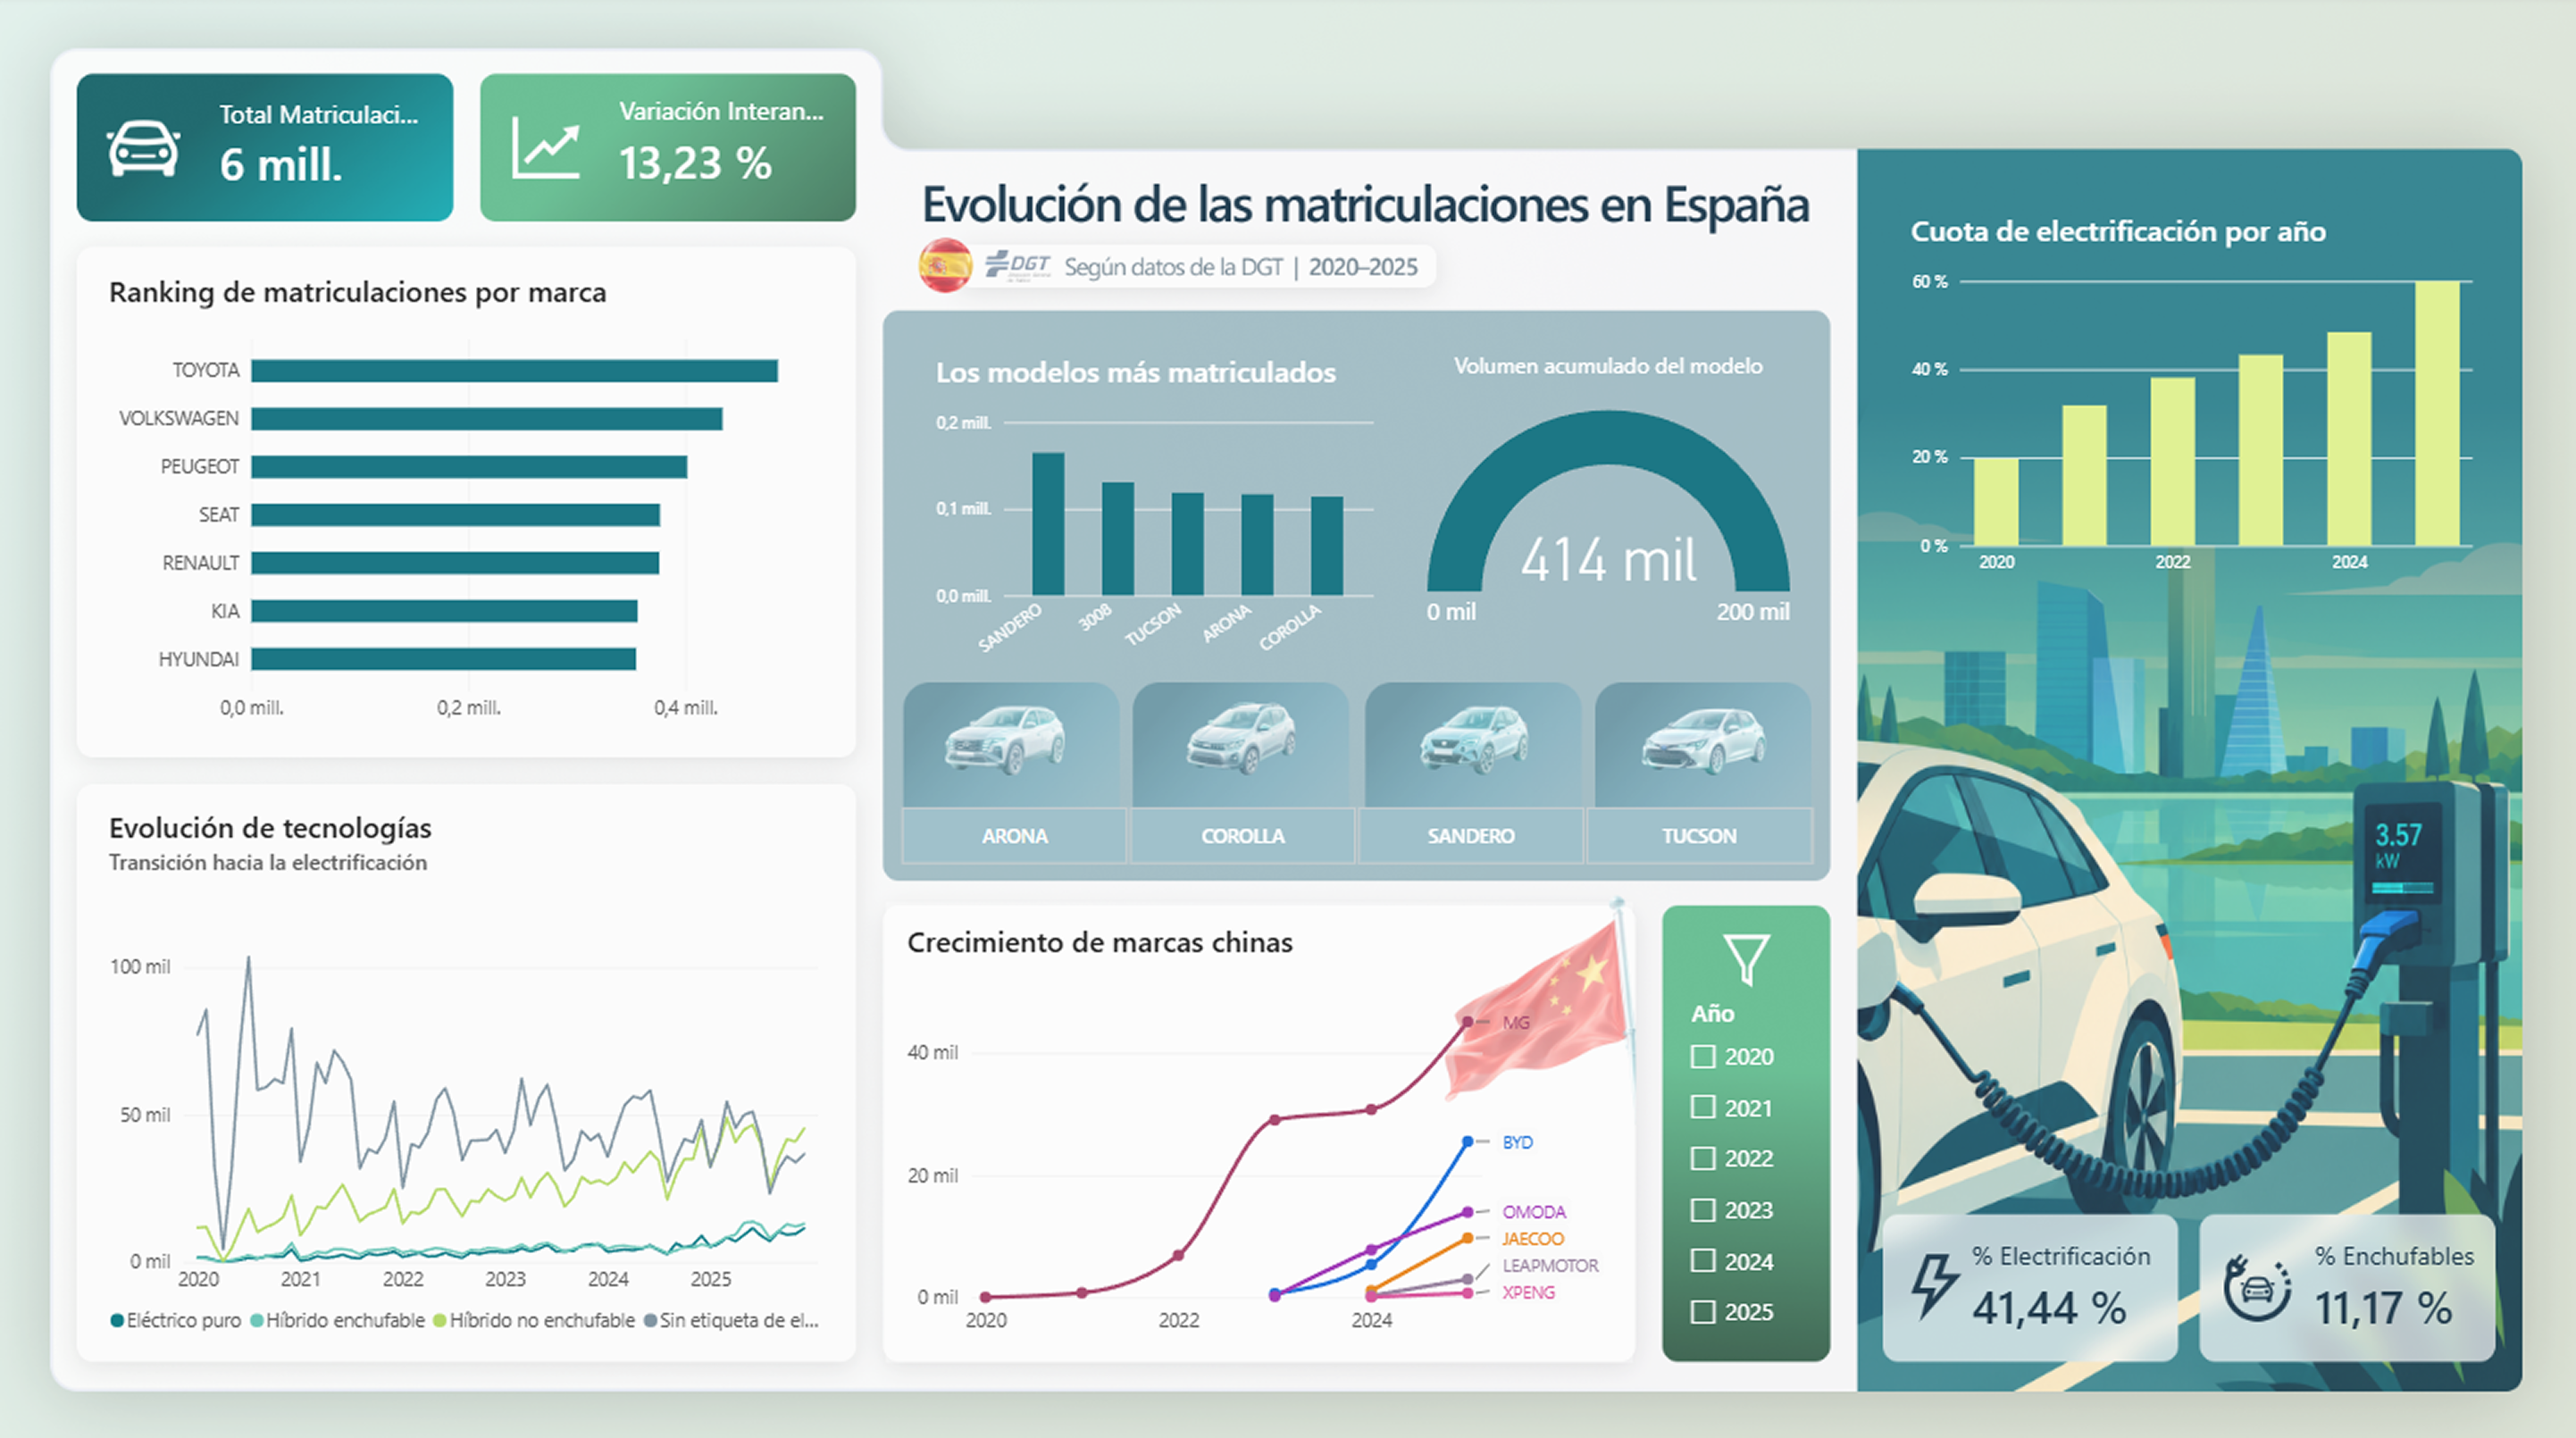

What the dashboard file says about the page in this screenshot:
{"tool":"powerbi","page":{"name":"Página 1","canvas":[1920,1080],"ordinal":0},"visuals":[{"type":"cardVisual","fields":{"Data":["matriculaciones_powerbi_mejorado.Total Matriculaciones"]},"box":[150,57.1,180,108],"z":0},{"type":"lineChart","title":"Evolución de tecnologías","fields":{"Category":["matriculaciones_powerbi_mejorado.periodo"],"Series":["matriculaciones_powerbi_mejorado.tecnologia"],"Y":["matriculaciones_powerbi_mejorado.Total Matriculaciones"]},"box":[68.2,590.9,565.5,427.3],"z":1000},{"type":"cardVisual","fields":{"Data":["matriculaciones_powerbi_mejorado.% Electrificación"]},"box":[1455,907.5,181.4,110],"z":2000},{"type":"columnChart","title":"Cuota de electrificación por año","fields":{"Category":["matriculaciones_powerbi_mejorado.anio"],"Y":["matriculaciones_powerbi_mejorado.% Electrificación"]},"box":[1410,146.7,450,305],"z":3000},{"type":"slicer","fields":{"Values":["matriculaciones_powerbi_mejorado.anio"]},"box":[1253.8,746.2,122.5,256.2],"z":4000},{"type":"clusteredBarChart","title":"Ranking de matriculaciones por marca","fields":{"Category":["matriculaciones_powerbi_mejorado.marca"],"Y":["matriculaciones_powerbi_mejorado.Total Matriculaciones"]},"box":[68,192,566,370],"z":5000},{"type":"clusteredColumnChart","title":"Los modelos más matriculados","fields":{"Category":["matriculaciones_powerbi_mejorado.modelo_normalizado"],"Y":["matriculaciones_powerbi_mejorado.Total Matriculaciones"]},"box":[684,252,358,272],"z":6000},{"type":"cardVisual","fields":{"Data":["matriculaciones_powerbi_mejorado.Variación Interanual %"]},"box":[448,54,184.4,110],"z":7000},{"type":"cardVisual","fields":{"Data":["matriculaciones_powerbi_mejorado.% Enchufables"]},"box":[1710,907.5,210,110],"z":8000},{"type":"lineChart","title":"Crecimiento de marcas chinas","fields":{"Category":["matriculaciones_powerbi_mejorado.anio"],"Series":["matriculaciones_powerbi_mejorado.marca"],"Y":["matriculaciones_powerbi_mejorado.Total Matriculaciones"]},"box":[662.5,675,556.2,342.5],"z":9000},{"type":"gauge","title":"Volumen acumulado del modelo","fields":{"MaxValue":["matriculaciones_powerbi_mejorado.Máximo Medidor"],"Y":["matriculaciones_powerbi_mejorado.Total Matriculaciones"]},"box":[1050,252,302,248],"z":10000},{"type":"slicer","fields":{"Values":["matriculaciones_powerbi_mejorado.modelo_normalizado"]},"box":[633.6,601.8,758.2,50],"z":11000}]}

Visuals, with their boxes in screenshot pixels (x1, y1, x2, y2), scaled from the page's 1920x1080 canvas onto the 2576x1438 screenshot:
cardVisual - matriculaciones_powerbi_mejorado.Total Matriculaciones: select_region(201, 76, 443, 220)
"Evolución de tecnologías" lineChart: select_region(91, 787, 850, 1356)
cardVisual - matriculaciones_powerbi_mejorado.% Electrificación: select_region(1953, 1208, 2195, 1355)
"Cuota de electrificación por año" columnChart: select_region(1892, 196, 2496, 601)
slicer - matriculaciones_powerbi_mejorado.anio: select_region(1682, 993, 1846, 1334)
"Ranking de matriculaciones por marca" clusteredBarChart: select_region(91, 255, 850, 748)
"Los modelos más matriculados" clusteredColumnChart: select_region(917, 336, 1398, 698)
cardVisual - matriculaciones_powerbi_mejorado.Variación Interanual %: select_region(601, 71, 849, 218)
cardVisual - matriculaciones_powerbi_mejorado.% Enchufables: select_region(2295, 1208, 2575, 1355)
"Crecimiento de marcas chinas" lineChart: select_region(889, 899, 1635, 1355)
"Volumen acumulado del modelo" gauge: select_region(1409, 336, 1814, 665)
slicer - matriculaciones_powerbi_mejorado.modelo_normalizado: select_region(850, 801, 1868, 868)
